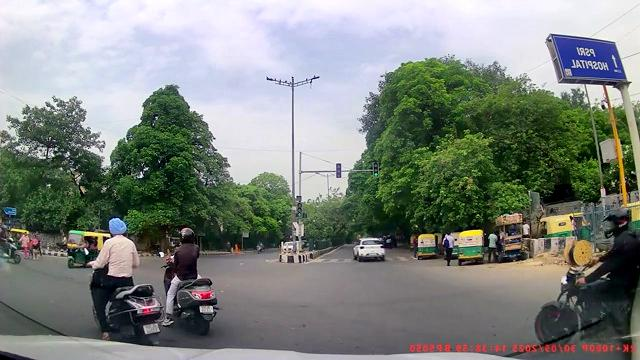motorcycle_with_helmet: (87, 216, 162, 344), (162, 226, 219, 335)
